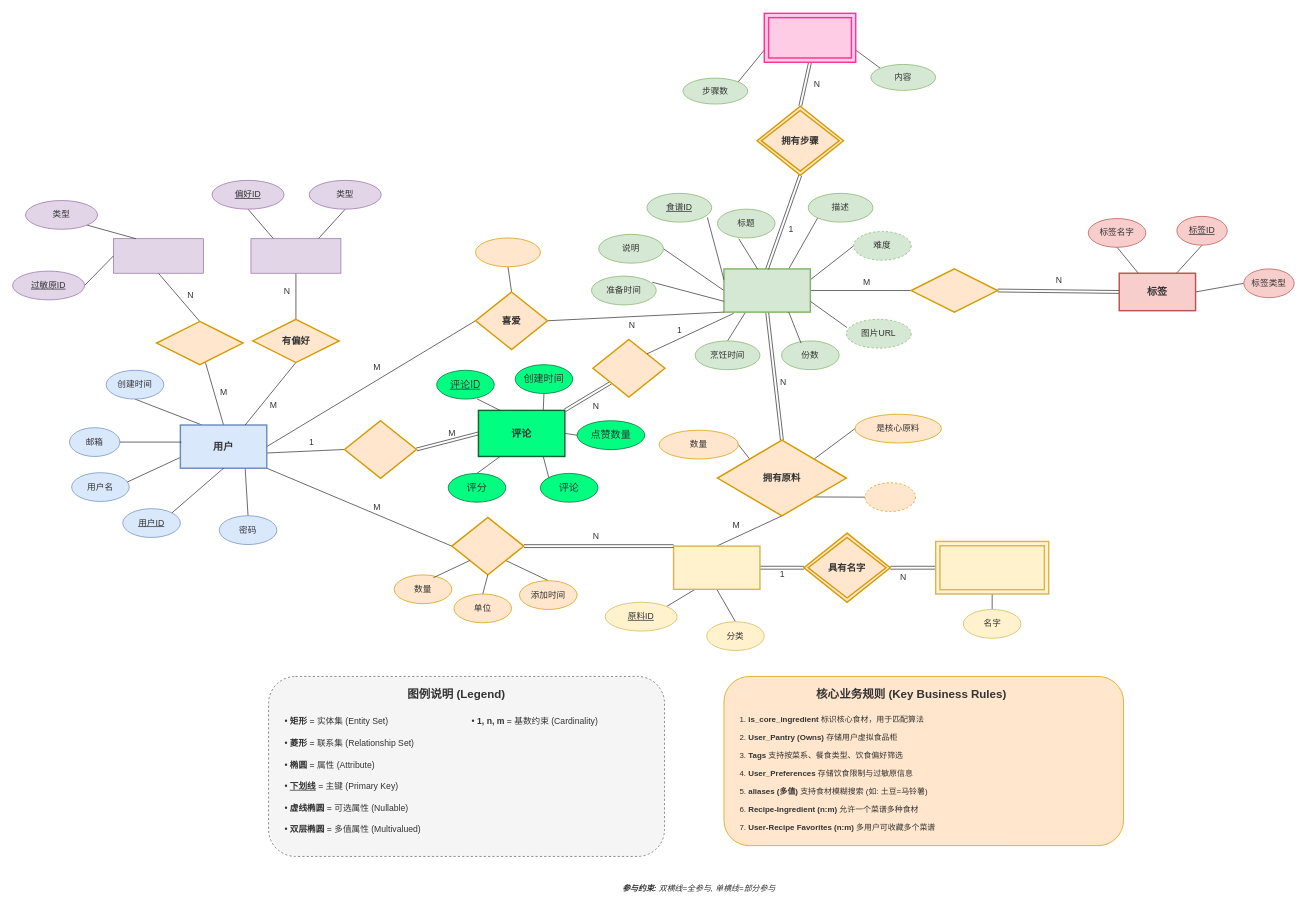
The diagram is 1307 pixels wide and 909 high, and some of its shapes have lost their labels. Each missing label, with the box of its shape:
原料: (672, 545, 760, 590)
原料名字: (935, 540, 1049, 594)
发布: (343, 420, 417, 479)
喜爱时间: (475, 237, 540, 267)
备注: (864, 482, 915, 512)
拥有: (451, 516, 524, 575)
拥有标签: (910, 268, 998, 312)
拥有评论: (592, 338, 665, 397)
有过敏原: (156, 320, 243, 365)
步骤: (763, 12, 856, 63)
用户偏好: (250, 238, 341, 273)
用户过敏原: (113, 238, 203, 273)
食谱: (723, 268, 811, 312)
